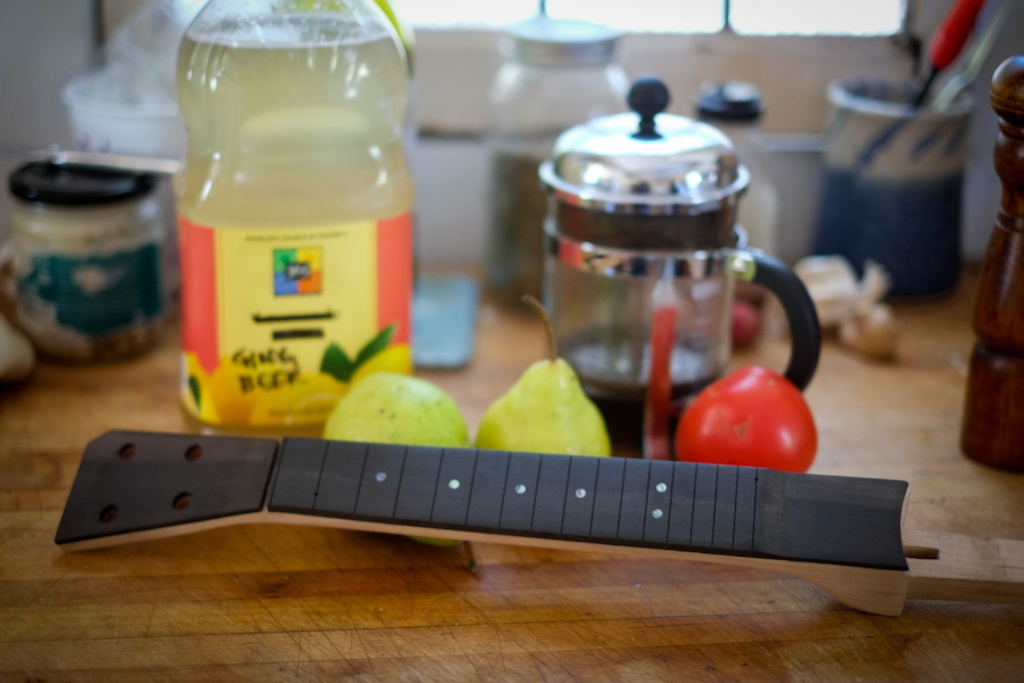Tomato: (669, 371, 821, 478)
